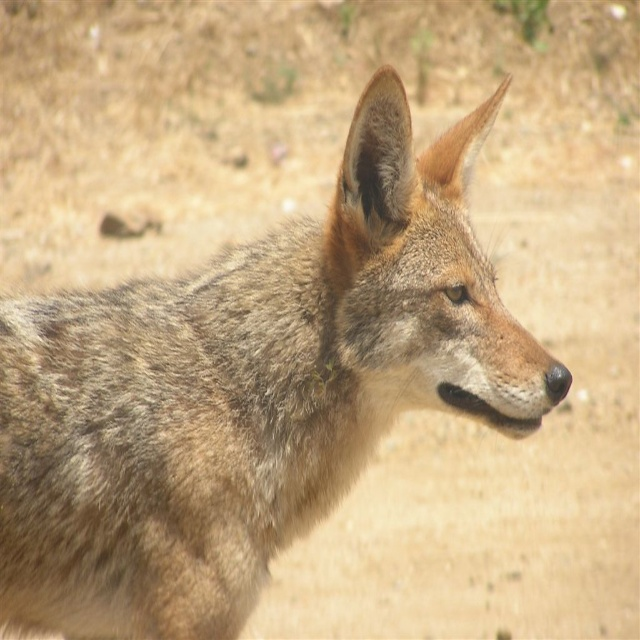Fox: (0, 64, 573, 640)
